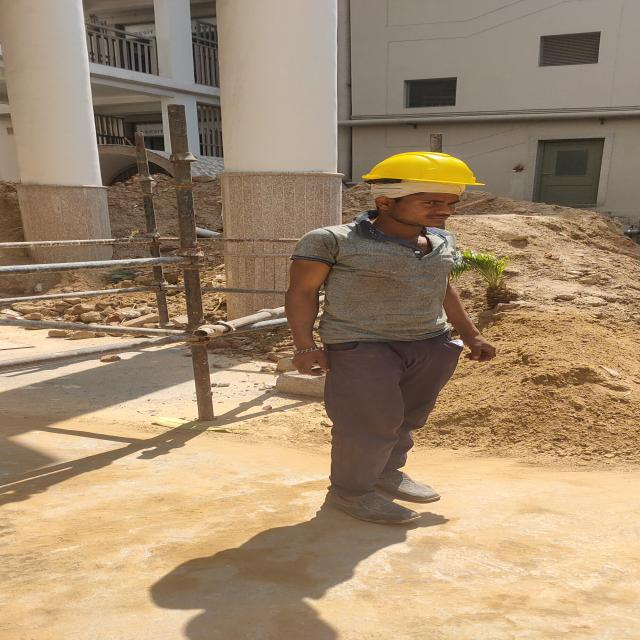no jacket: (284, 152, 495, 522)
